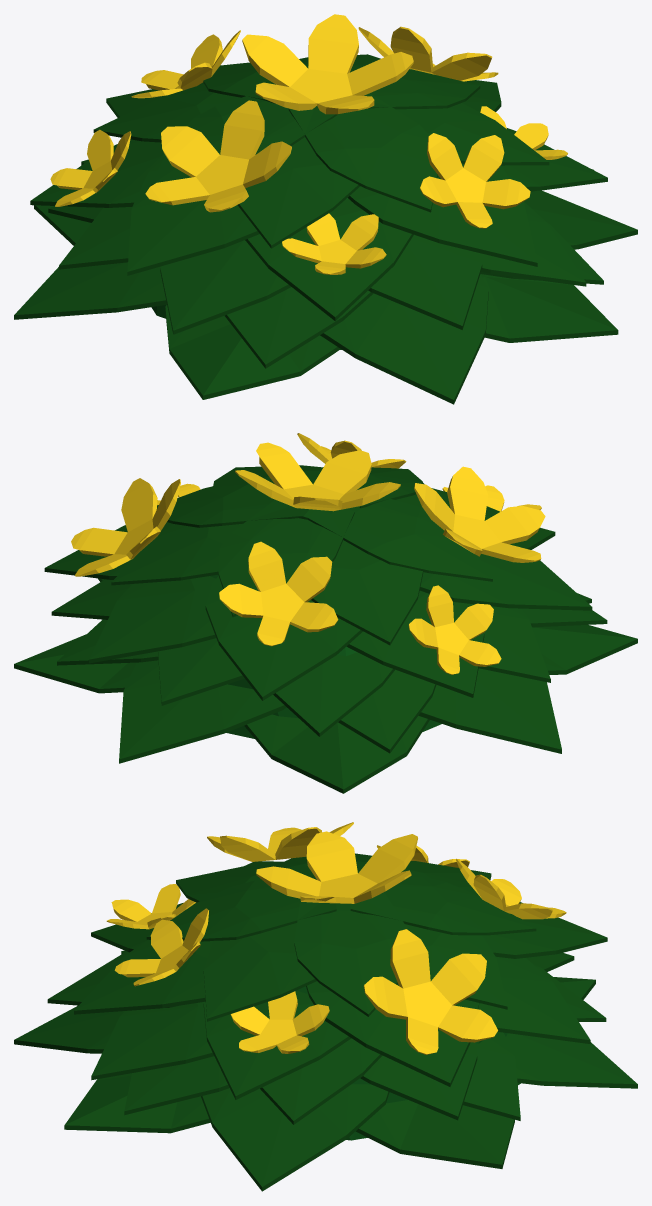
Rendered from BushYellowFlowers.obj.
The picture shows the model from 3 angles, top to bottom: view 1: azimuth 30°, elevation 25°; view 2: azimuth 150°, elevation 25°; view 3: azimuth 270°, elevation 25°; orthographic projection. The views are drawn at different scales.
Visible parts, largest first — view 1: BushYellowFlowers_Cube.045; view 2: BushYellowFlowers_Cube.045; view 3: BushYellowFlowers_Cube.045.
Boxes of the visible parts, <box> form: BushYellowFlowers_Cube.045: <box>14,14,637,404</box>; BushYellowFlowers_Cube.045: <box>14,433,637,793</box>; BushYellowFlowers_Cube.045: <box>14,822,637,1191</box>.
Bounding box in the file's own units: 9.91 × 3.73 × 9.99.
